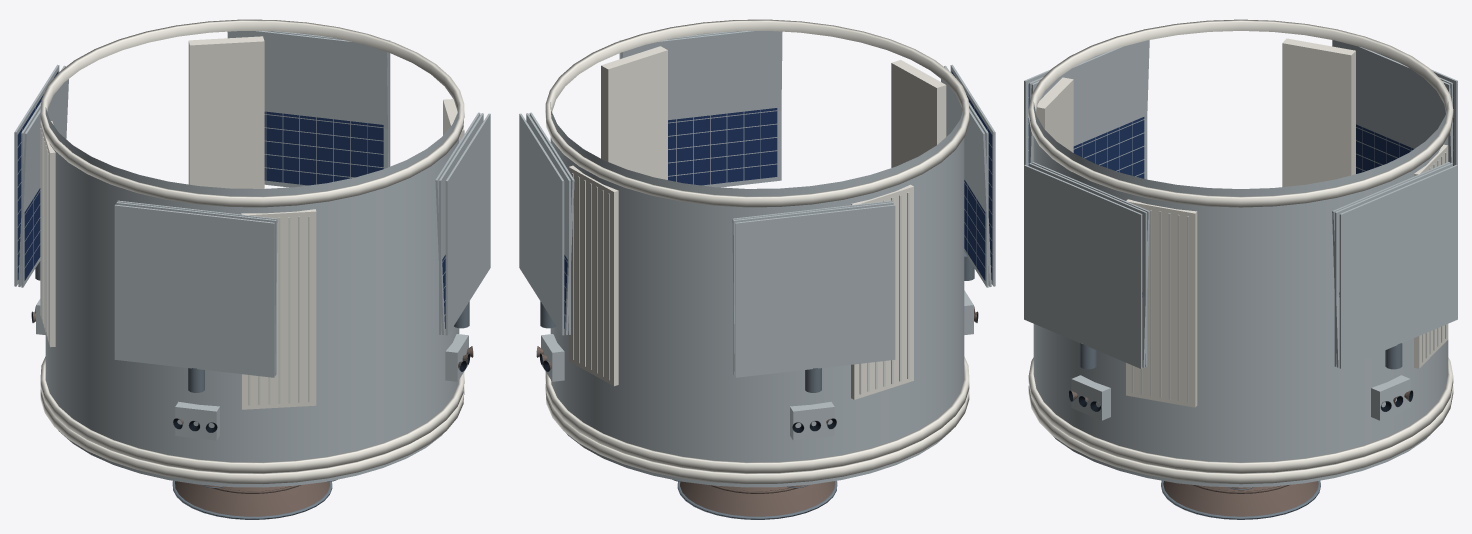
Rendered from orion_service_module.glb.
The picture shows the model from 3 angles, left to right: view 1: azimuth 30°, elevation 25°; view 2: azimuth 150°, elevation 25°; view 3: azimuth 270°, elevation 25°; orthographic projection.
Parts seen in each view (by area): view 1: orion_esmmesh_Satin_aluminum, orion_esmwing_04panel_01panel_02panel_03cellsmesh_Satin_alum, orion_esmmesh_Warm_white_enamel, orion_esmradiator_02mesh_Warm_white_enamel, orion_esmwing_02panel_01panel_02cellsmesh_Satin_aluminum, orion_esmradiator_04mesh_Warm_white_enamel, orion_esmwing_02panel_01cellsmesh_Indigo_solar_cells, orion_esmwing_01panel_01panel_02panel_03cellsmesh_Satin_alum, orion_esmmain_enginebellmesh_Heat-stained_alloy, orion_esmwing_03panel_01panel_02cellsmesh_Satin_aluminum, orion_esmradiator_04mesh_Pale_thermal_blanket, orion_esmradiator_03mesh_Warm_white_enamel (+13 smaller); view 2: orion_esmmesh_Satin_aluminum, orion_esmwing_03panel_01panel_02panel_03cellsmesh_Satin_alum, orion_esmmesh_Warm_white_enamel, orion_esmwing_01panel_01panel_02cellsmesh_Satin_aluminum, orion_esmradiator_01mesh_Warm_white_enamel, orion_esmradiator_02mesh_Warm_white_enamel, orion_esmwing_01panel_01cellsmesh_Indigo_solar_cells, orion_esmwing_02panel_01panel_02panel_03cellsmesh_Satin_alum, orion_esmradiator_03mesh_Warm_white_enamel, orion_esmradiator_04mesh_Warm_white_enamel, orion_esmmain_enginebellmesh_Heat-stained_alloy, orion_esmradiator_02mesh_Pale_thermal_blanket (+14 smaller); view 3: orion_esmmesh_Satin_aluminum, orion_esmmesh_Warm_white_enamel, orion_esmwing_01panel_01panel_02panel_03cellsmesh_Satin_alum, orion_esmwing_02panel_01panel_02panel_03cellsmesh_Satin_alum, orion_esmradiator_03mesh_Warm_white_enamel, orion_esmradiator_01mesh_Warm_white_enamel, orion_esmwing_03panel_01panel_02cellsmesh_Satin_aluminum, orion_esmwing_04panel_01panel_02cellsmesh_Satin_aluminum, orion_esmmain_enginebellmesh_Heat-stained_alloy, orion_esmwing_04panel_01cellsmesh_Indigo_solar_cells, orion_esmradiator_01mesh_Pale_thermal_blanket, orion_esmradiator_04mesh_Warm_white_enamel (+12 smaller).
Part boxes in pixels (x1=…): orion_esmmesh_Satin_aluminum: x1=45, y1=102, x2=459, y2=487; orion_esmwing_04panel_01panel_02panel_03cellsmesh_Satin_alum: x1=114, y1=204, x2=274, y2=377; orion_esmmesh_Warm_white_enamel: x1=40, y1=19, x2=464, y2=484; orion_esmradiator_02mesh_Warm_white_enamel: x1=188, y1=36, x2=264, y2=188; orion_esmwing_02panel_01panel_02cellsmesh_Satin_aluminum: x1=227, y1=31, x2=388, y2=166; orion_esmradiator_04mesh_Warm_white_enamel: x1=241, y1=209, x2=316, y2=409; orion_esmwing_02panel_01cellsmesh_Indigo_solar_cells: x1=264, y1=111, x2=383, y2=185; orion_esmwing_01panel_01panel_02panel_03cellsmesh_Satin_alum: x1=445, y1=113, x2=490, y2=335; orion_esmmain_enginebellmesh_Heat-stained_alloy: x1=175, y1=481, x2=329, y2=516; orion_esmwing_03panel_01panel_02cellsmesh_Satin_aluminum: x1=18, y1=79, x2=68, y2=286; orion_esmradiator_04mesh_Pale_thermal_blanket: x1=248, y1=216, x2=309, y2=405; orion_esmradiator_03mesh_Warm_white_enamel: x1=40, y1=121, x2=55, y2=347; orion_esmmesh_Satin_aluminum: x1=550, y1=102, x2=964, y2=487; orion_esmwing_03panel_01panel_02panel_03cellsmesh_Satin_alum: x1=735, y1=204, x2=895, y2=377; orion_esmmesh_Warm_white_enamel: x1=545, y1=19, x2=969, y2=484; orion_esmwing_01panel_01panel_02cellsmesh_Satin_aluminum: x1=622, y1=31, x2=782, y2=123; orion_esmradiator_01mesh_Warm_white_enamel: x1=601, y1=46, x2=667, y2=179; orion_esmradiator_02mesh_Warm_white_enamel: x1=568, y1=165, x2=618, y2=386; orion_esmwing_01panel_01cellsmesh_Indigo_solar_cells: x1=668, y1=108, x2=777, y2=185; orion_esmwing_02panel_01panel_02panel_03cellsmesh_Satin_alum: x1=519, y1=113, x2=564, y2=335; orion_esmradiator_03mesh_Warm_white_enamel: x1=851, y1=184, x2=913, y2=399; orion_esmradiator_04mesh_Warm_white_enamel: x1=891, y1=60, x2=946, y2=167; orion_esmmain_enginebellmesh_Heat-stained_alloy: x1=680, y1=481, x2=834, y2=516; orion_esmradiator_02mesh_Pale_thermal_blanket: x1=571, y1=173, x2=609, y2=380; orion_esmmesh_Satin_aluminum: x1=1033, y1=102, x2=1448, y2=487; orion_esmmesh_Warm_white_enamel: x1=1028, y1=19, x2=1453, y2=484; orion_esmwing_01panel_01panel_02panel_03cellsmesh_Satin_alum: x1=1024, y1=165, x2=1142, y2=368; orion_esmwing_02panel_01panel_02panel_03cellsmesh_Satin_alum: x1=1339, y1=165, x2=1457, y2=368; orion_esmradiator_03mesh_Warm_white_enamel: x1=1282, y1=38, x2=1355, y2=186; orion_esmradiator_01mesh_Warm_white_enamel: x1=1126, y1=199, x2=1197, y2=407; orion_esmwing_03panel_01panel_02cellsmesh_Satin_aluminum: x1=1332, y1=40, x2=1451, y2=163; orion_esmwing_04panel_01panel_02cellsmesh_Satin_aluminum: x1=1029, y1=40, x2=1149, y2=163; orion_esmmain_enginebellmesh_Heat-stained_alloy: x1=1163, y1=481, x2=1318, y2=516; orion_esmwing_04panel_01cellsmesh_Indigo_solar_cells: x1=1073, y1=117, x2=1144, y2=178; orion_esmradiator_01mesh_Pale_thermal_blanket: x1=1131, y1=210, x2=1188, y2=402; orion_esmradiator_04mesh_Warm_white_enamel: x1=1036, y1=77, x2=1073, y2=152.
Bounding box in the file's own units: 4.33 × 4.24 × 4.33.
